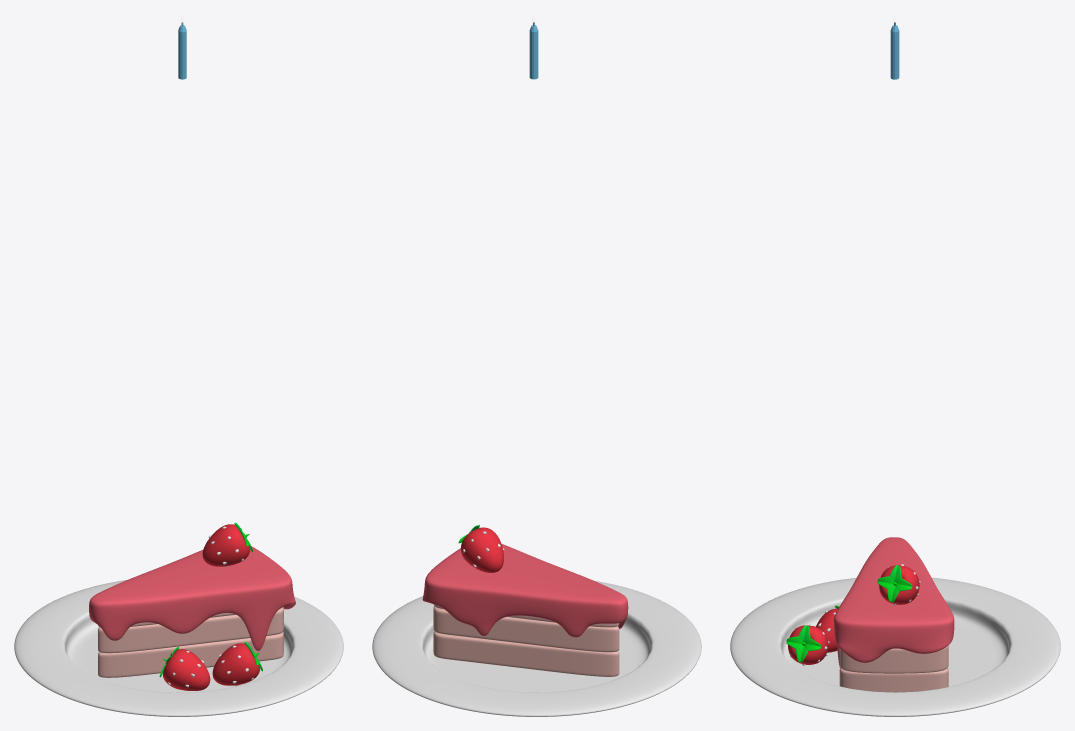
The model's file is cake_with_candle.glb.
The picture shows the model from 3 angles, left to right: view 1: azimuth 30°, elevation 25°; view 2: azimuth 150°, elevation 25°; view 3: azimuth 270°, elevation 25°; orthographic projection.
Parts seen in each view (by area): view 1: Circle, Cube.003, Cube.001, Cube, Cube.005, Cube.053, Cube.004; view 2: Circle, Cube.003, Cube, Cube.001, Cube.053, Sphere; view 3: Circle, Cube.003, Cube.001, Cube, Cube.005, Cube.053, Sphere, Cube.004.
Boxes of the visible parts, x1,y1,x2,y2 form: Circle: [14, 580, 343, 716]; Cube.003: [89, 546, 295, 650]; Cube.001: [98, 607, 283, 653]; Cube: [98, 632, 283, 677]; Cube.005: [212, 641, 262, 685]; Cube.053: [202, 522, 252, 566]; Cube.004: [159, 647, 210, 690]; Circle: [372, 580, 701, 716]; Cube.003: [422, 544, 628, 637]; Cube: [433, 631, 619, 676]; Cube.001: [433, 606, 619, 652]; Cube.053: [458, 524, 504, 572]; Sphere: [529, 14, 538, 79]; Circle: [730, 577, 1060, 716]; Cube.003: [834, 537, 954, 667]; Cube.001: [839, 645, 948, 673]; Cube: [839, 667, 948, 692]; Cube.005: [786, 624, 829, 665]; Cube.053: [877, 564, 920, 605]; Sphere: [890, 14, 899, 79]; Cube.004: [814, 605, 838, 652].
Bounding box in the file's own units: 10.5 × 22.91 × 10.5.
